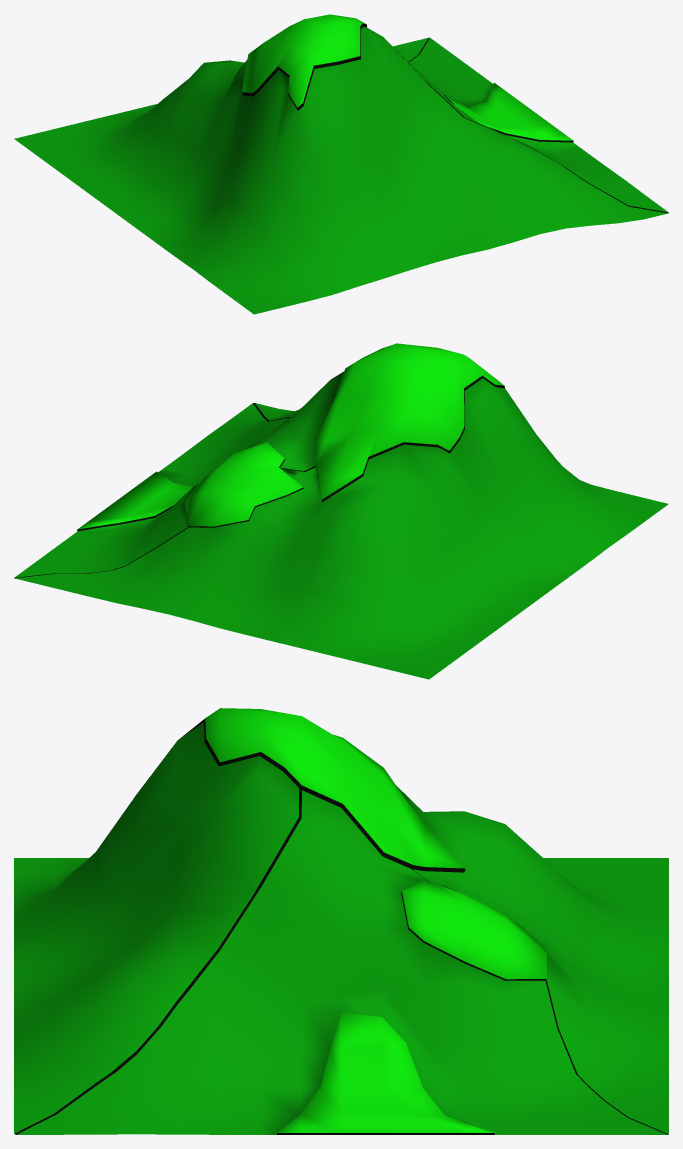
The model's file is PaperMountain01.fbx.
3 views of the same model, one above another, from view 1: azimuth 30°, elevation 25°; view 2: azimuth 150°, elevation 25°; view 3: azimuth 270°, elevation 25° (orthographic). The views are drawn at different scales.
Visible parts, largest first — view 1: Plane; view 2: Plane; view 3: Plane.
Part boxes in pixels (left/top/right/bottom): Plane: left=14, top=14, right=668, bottom=314; Plane: left=14, top=343, right=668, bottom=679; Plane: left=14, top=708, right=668, bottom=1134.
Bounding box in the file's own units: 9957 × 4175 × 9945.
